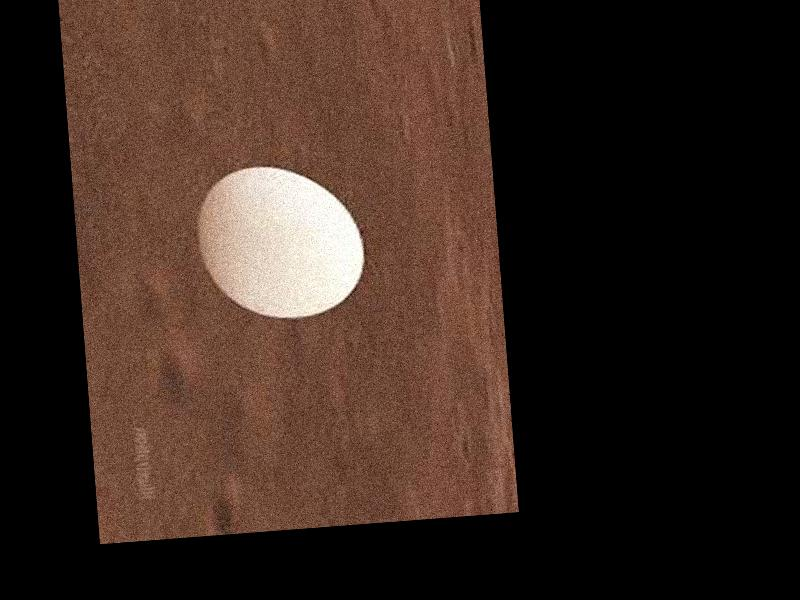Eggs: (193, 157, 367, 325)
